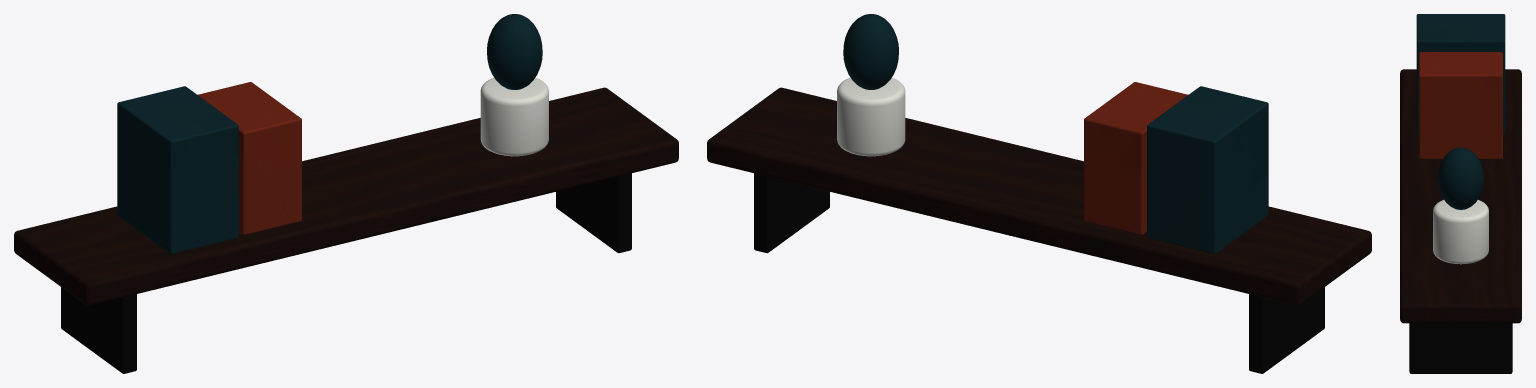
The model's file is razoredge-modern-shelf-wall.glb.
3 views of the same model, side by side, from view 1: azimuth 30°, elevation 25°; view 2: azimuth 150°, elevation 25°; view 3: azimuth 270°, elevation 25° (orthographic). The views are drawn at different scales.
Visible parts, largest first — view 1: board, book_a, book_b, pot, bracket, bracket.001, leaf; view 2: board, book_a, book_b, pot, bracket, bracket.001, leaf; view 3: board, book_b, bracket.001, book_a, pot, leaf.
Boxes of the visible parts, box(x1,y1,x2,y2) form: board: box(14, 87, 678, 305); book_a: box(117, 86, 238, 253); book_b: box(197, 82, 301, 234); pot: box(480, 77, 548, 156); bracket: box(61, 287, 136, 373); bracket.001: box(556, 173, 631, 253); leaf: box(487, 14, 542, 89); board: box(707, 87, 1371, 305); book_a: box(1147, 86, 1268, 253); book_b: box(1084, 82, 1188, 234); pot: box(837, 77, 905, 156); bracket: box(1249, 287, 1324, 373); bracket.001: box(754, 173, 829, 253); leaf: box(843, 14, 898, 89); board: box(1400, 69, 1521, 323); book_b: box(1419, 52, 1502, 158); bracket.001: box(1409, 323, 1512, 373); book_a: box(1416, 14, 1505, 133); pot: box(1433, 200, 1488, 264); leaf: box(1438, 147, 1483, 209).
Size of the model in its own units: 1.2 by 0.45 by 0.26.
5 materials, 4 textured.
